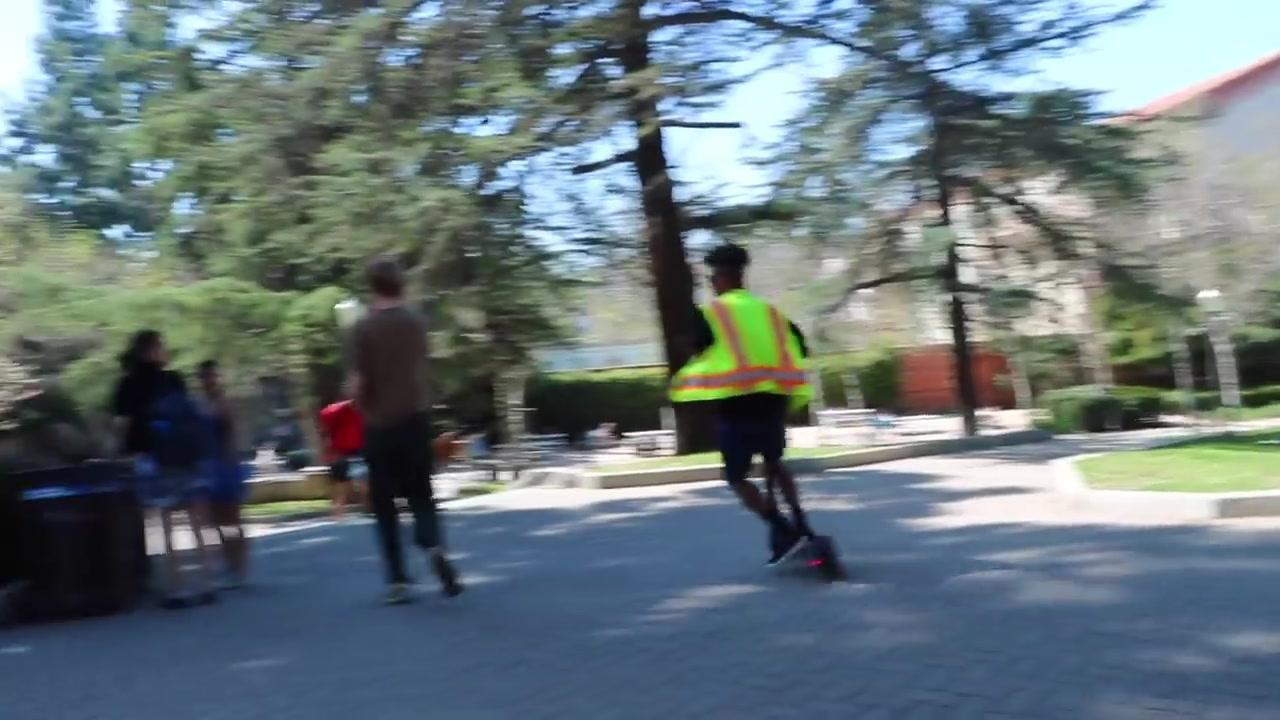vest: (657, 288, 817, 409)
